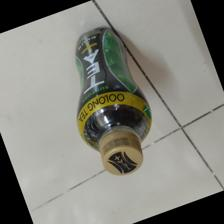Olong: (72, 26, 157, 176)
